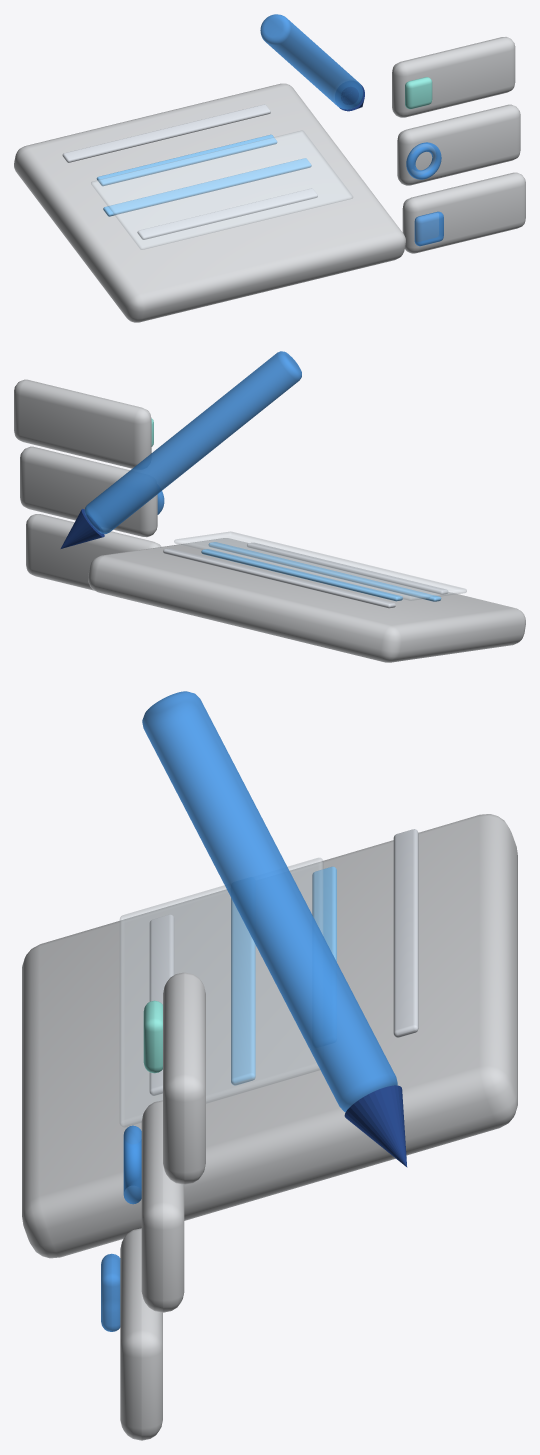
The model's file is module-06.glb.
3 renders of one model, top to bottom at view 1: azimuth 30°, elevation 25°; view 2: azimuth 150°, elevation 25°; view 3: azimuth 270°, elevation 25°, orthographic. The views are drawn at different scales.
Parts seen in each view (by area): view 1: slab, sel_box, chip2, chip1, chip0, stylus_body, slab_line0, slab_line2, slab_line1, slab_line3, chip2_mark, chip1_mark (+2 smaller); view 2: slab, stylus_body, chip0, chip1, sel_box, chip2, slab_line0, slab_line2, slab_line1, slab_line3, stylus_tip; view 3: slab, stylus_body, sel_box, chip0, chip1, chip2, slab_line0, slab_line2, stylus_tip, slab_line3, slab_line1, chip2_mark (+2 smaller).
Boxes of the visible parts, bbox=[...] form: slab: bbox=[14, 83, 405, 322]; sel_box: bbox=[91, 130, 352, 249]; chip2: bbox=[402, 172, 525, 253]; chip1: bbox=[397, 104, 520, 185]; chip0: bbox=[392, 37, 515, 117]; stylus_body: bbox=[260, 14, 363, 109]; slab_line0: bbox=[62, 104, 270, 162]; slab_line2: bbox=[103, 158, 311, 216]; slab_line1: bbox=[96, 134, 277, 186]; slab_line3: bbox=[137, 188, 317, 239]; chip2_mark: bbox=[414, 211, 443, 246]; chip1_mark: bbox=[406, 142, 441, 179]; slab: bbox=[88, 538, 525, 662]; stylus_body: bbox=[84, 351, 301, 534]; chip0: bbox=[14, 379, 151, 468]; chip1: bbox=[20, 446, 157, 537]; sel_box: bbox=[174, 531, 466, 600]; chip2: bbox=[26, 514, 161, 590]; slab_line0: bbox=[163, 548, 395, 608]; slab_line2: bbox=[208, 542, 441, 601]; slab_line1: bbox=[201, 549, 402, 601]; slab_line3: bbox=[247, 542, 448, 594]; stylus_tip: bbox=[60, 509, 104, 548]; slab: bbox=[22, 814, 517, 1258]; stylus_body: bbox=[142, 691, 397, 1112]; sel_box: bbox=[120, 858, 323, 1127]; chip0: bbox=[163, 972, 205, 1184]; chip1: bbox=[141, 1100, 184, 1312]; chip2: bbox=[120, 1228, 162, 1440]; slab_line0: bbox=[393, 829, 418, 1037]; slab_line2: bbox=[231, 898, 255, 1085]; stylus_tip: bbox=[344, 1085, 407, 1167]; slab_line3: bbox=[149, 914, 174, 1095]; slab_line1: bbox=[312, 866, 336, 962]; chip2_mark: bbox=[101, 1253, 120, 1331].
Bounding box in the file's own units: 2.28 × 1.35 × 1.16.
